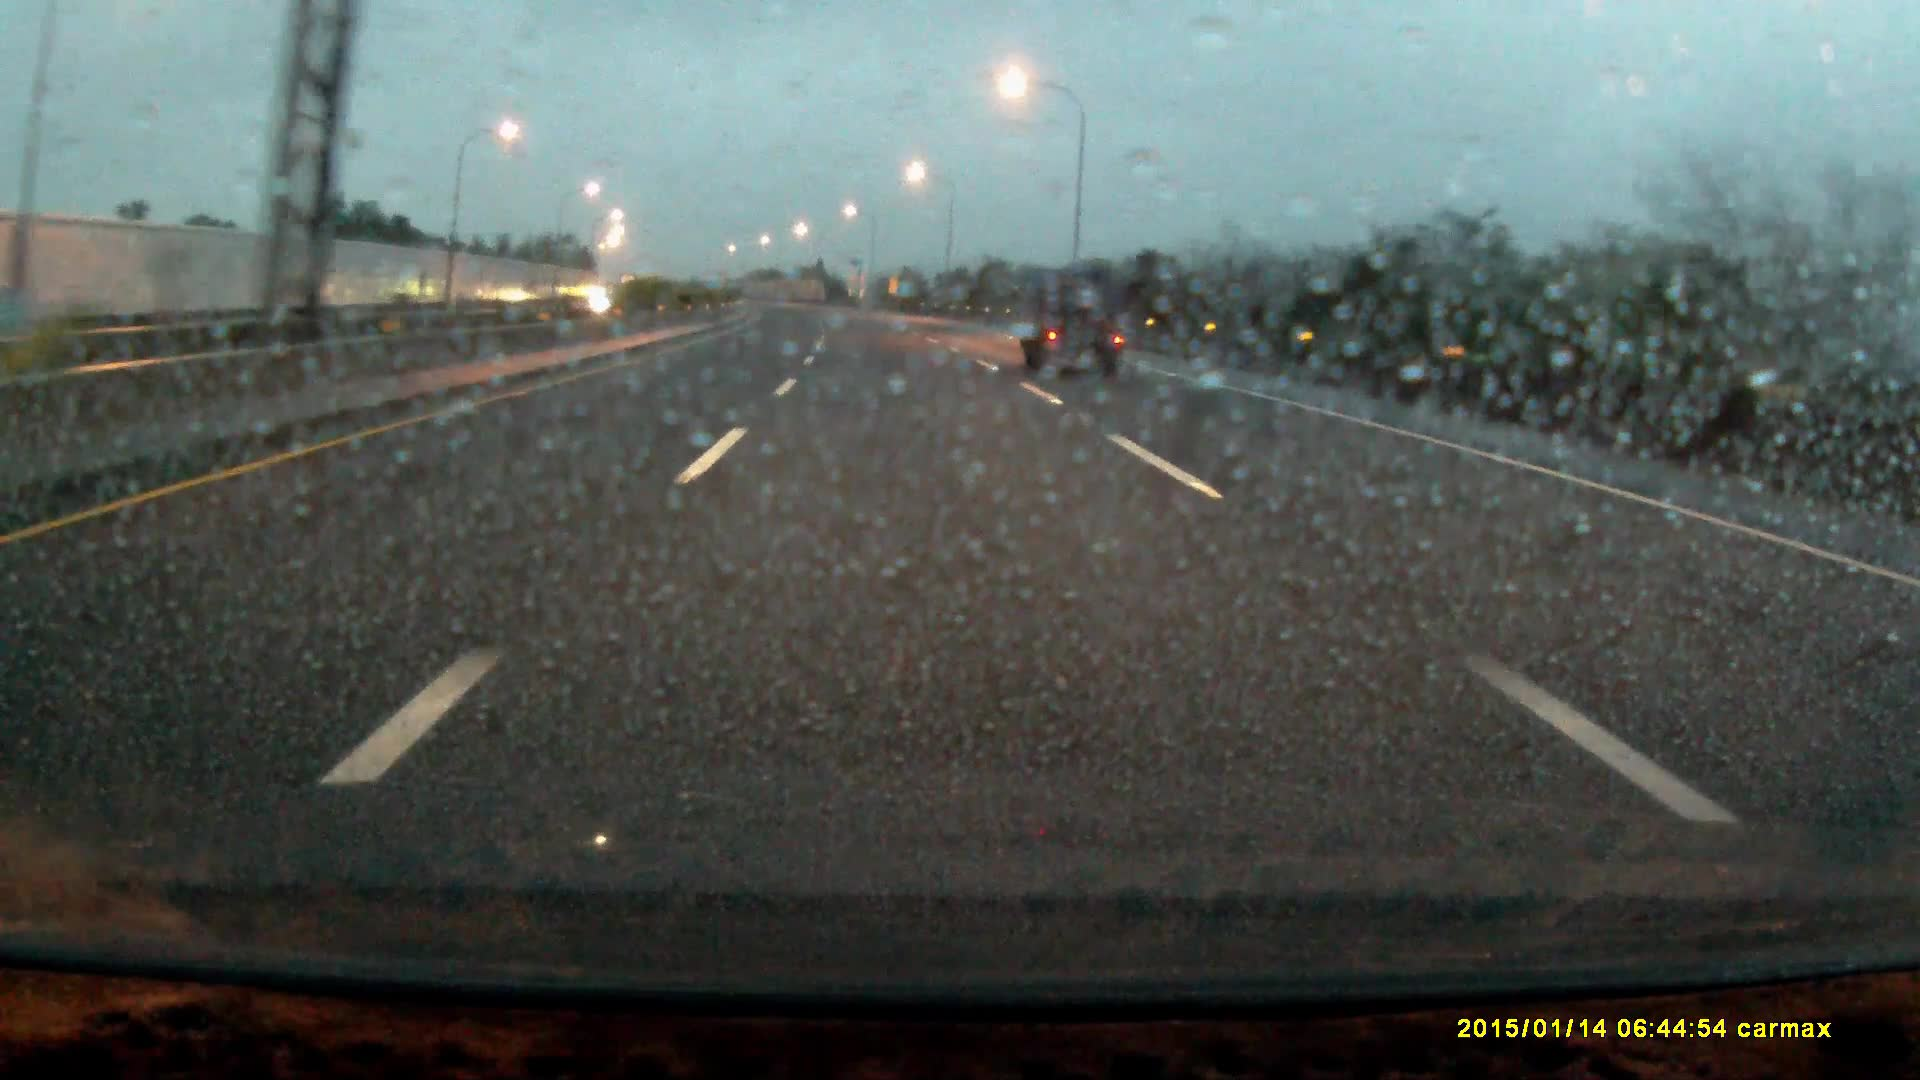vehicle: (1022, 274, 1127, 377), (559, 281, 625, 316)
